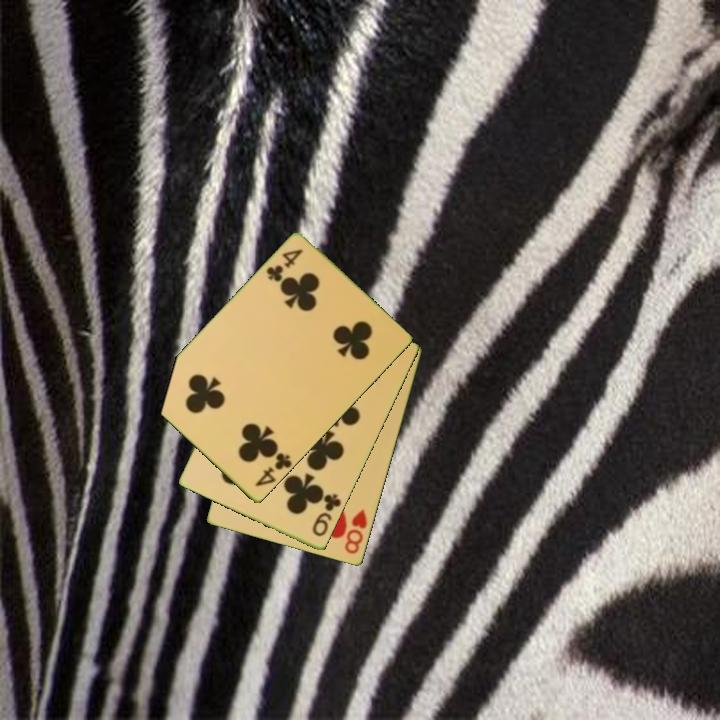4c: (251, 449, 295, 490), (263, 245, 306, 285)
8h: (341, 505, 370, 557)
9c: (309, 490, 344, 540)
